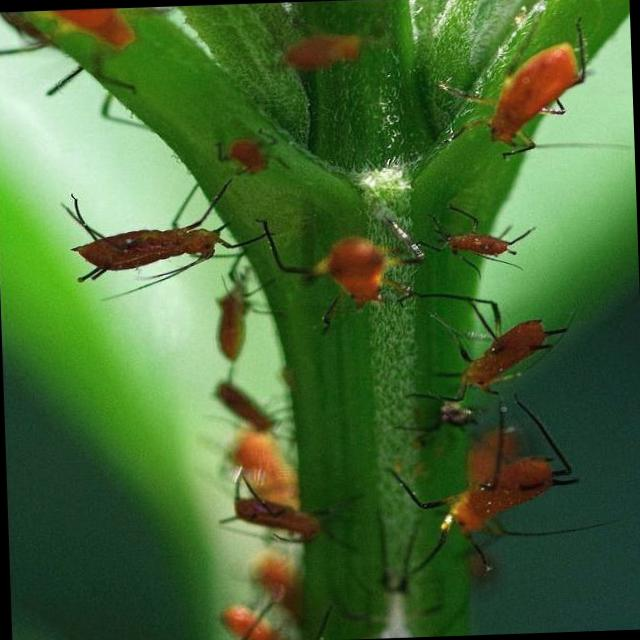aphid: (44, 168, 268, 300), (436, 24, 591, 168)
